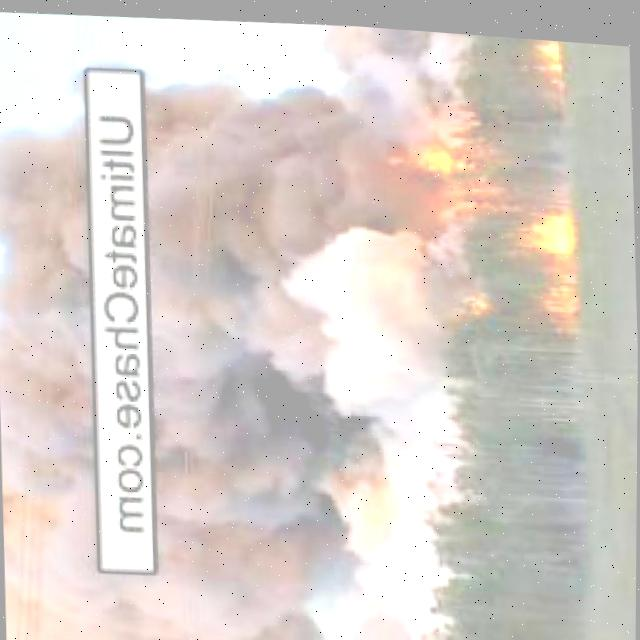Fire: (393, 128, 461, 174), (515, 204, 574, 249), (540, 31, 562, 74), (548, 285, 581, 313)
Smoke: (140, 158, 480, 640), (0, 107, 105, 640), (143, 8, 403, 185)
